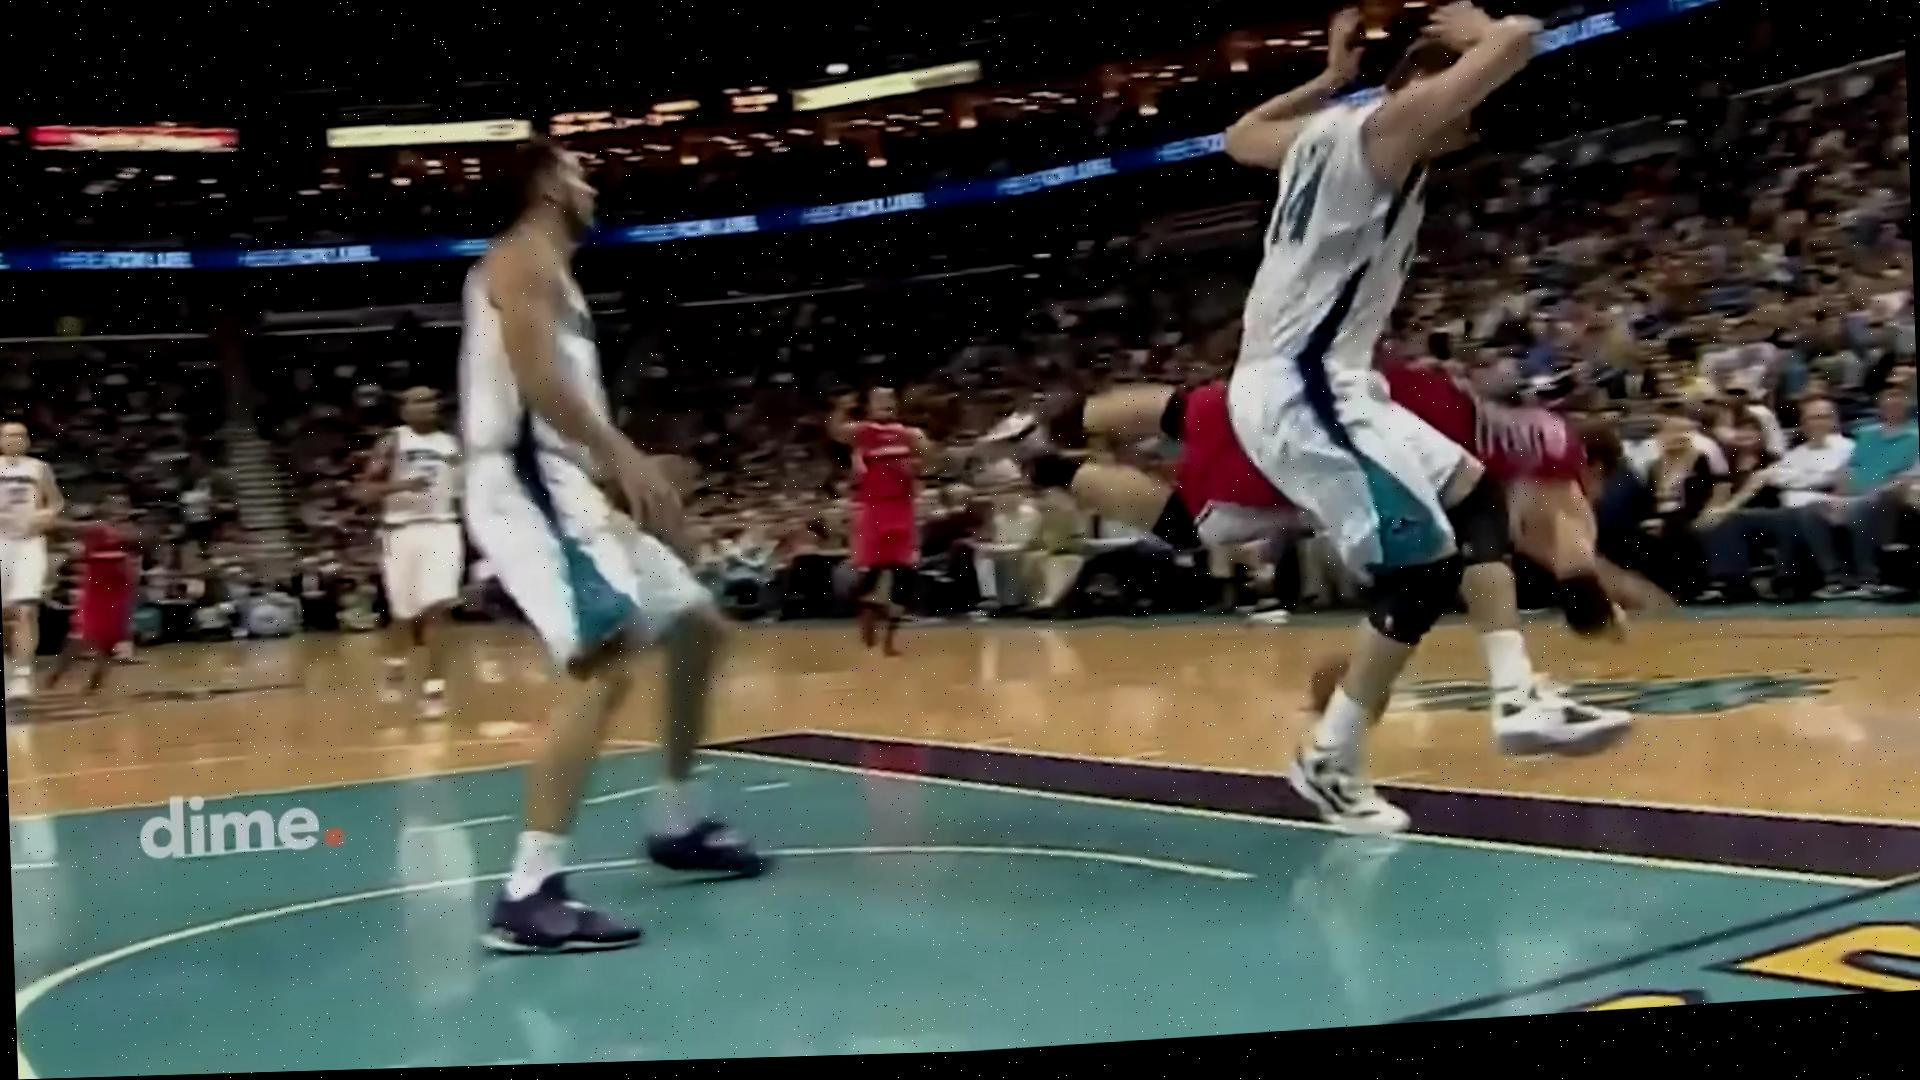foul: (1080, 32, 1692, 818)
